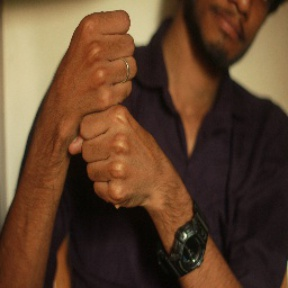G: (56, 8, 163, 216)
